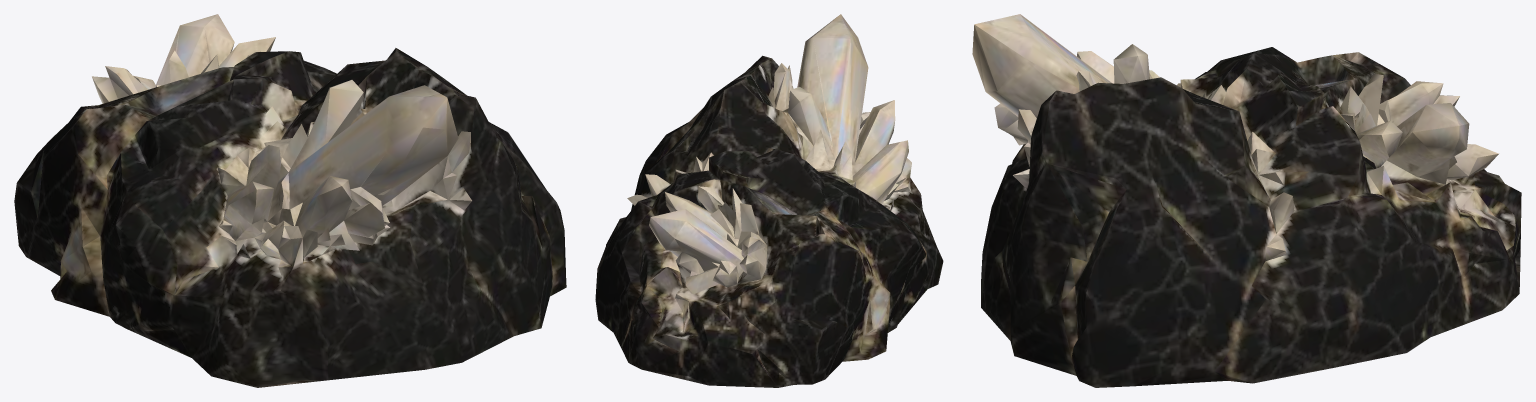
Rendered from ore-platinum.glb.
3 renders of one model, left to right at view 1: azimuth 30°, elevation 25°; view 2: azimuth 150°, elevation 25°; view 3: azimuth 270°, elevation 25°, orthographic. The views are drawn at different scales.
Visible parts, largest first — view 1: ore-platinum; view 2: ore-platinum; view 3: ore-platinum.
Part boxes in pixels (x1=…): ore-platinum: x1=14, y1=14, x2=566, y2=387; ore-platinum: x1=595, y1=14, x2=943, y2=387; ore-platinum: x1=972, y1=14, x2=1521, y2=387.
Size of the model in its own units: 1.74 by 1.11 by 2.
1 material, 1 textured.
